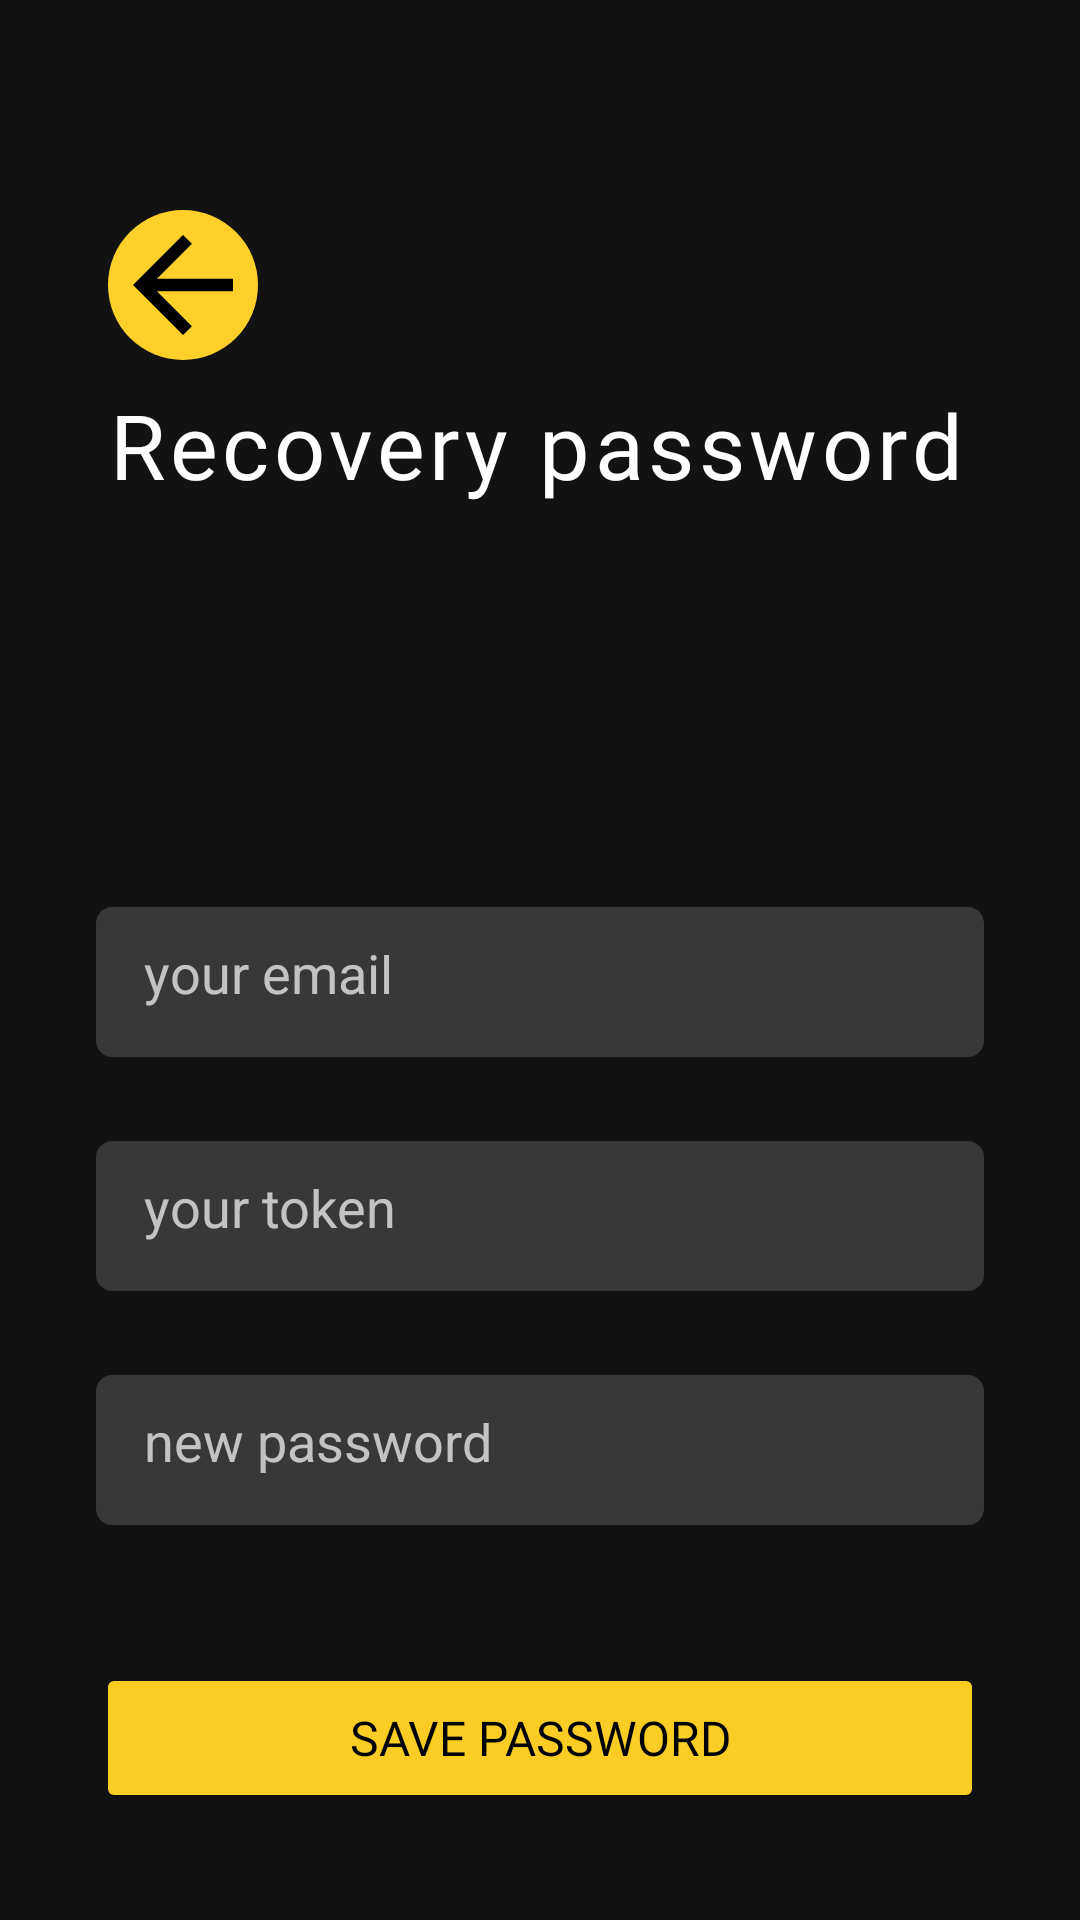

Screen size 1080w x 1920h. Icon name, then its center in pixels as point (x, y):
arrow back: point (183, 285)
